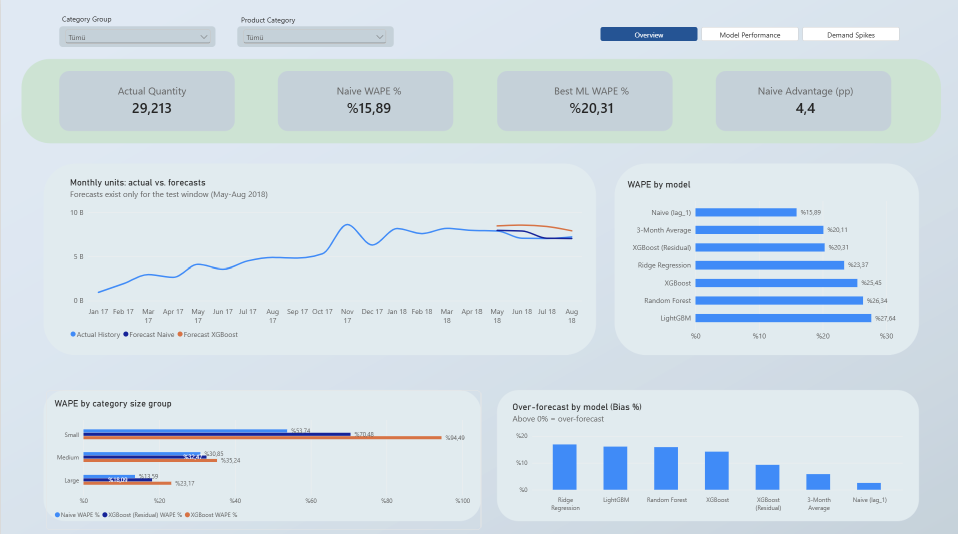

This screenshot's page, from the dashboard's own definition file:
{"tool":"powerbi","page":{"name":"Overview","canvas":[1920,1080],"ordinal":0},"visuals":[{"type":"cardVisual","fields":{"Data":["_Measures.Actual Quantity"]},"box":[162.5,147.5,280,110],"z":0},{"type":"cardVisual","fields":{"Data":["_Measures.Naive WAPE %"]},"box":[595,147.5,280,110],"z":1000},{"type":"cardVisual","fields":{"Data":["_Measures.Best ML WAPE %"]},"box":[1040,147.5,280,110],"z":2000},{"type":"cardVisual","fields":{"Data":["_Measures.Naive Advantage (pp)"]},"box":[1467.5,147.5,280,110],"z":3000},{"type":"lineChart","title":"Monthly units: actual vs. forecasts","fields":{"Category":["DimMonth.Month Label"],"Y":["_Measures.Actual History","_Measures.Forecast Naive","_Measures.Forecast XGBoost"]},"box":[122.5,342.5,1057.5,357.5],"z":4000},{"type":"clusteredBarChart","title":"         WAPE by model","fields":{"Category":["forecast_results.model"],"Y":["_Measures.WAPE %"]},"box":[1235,345,582.5,357.5],"z":5000},{"type":"clusteredBarChart","title":"WAPE by category size group","fields":{"Category":["forecast_results.category_group"],"Y":["_Measures.Naive WAPE %","_Measures.XGBoost (Residual) WAPE %","_Measures.XGBoost WAPE %"]},"box":[90,781.2,870,278.8],"z":6000},{"type":"clusteredColumnChart","title":"Over-forecast by model (Bias %)","fields":{"Category":["forecast_results.model"],"Y":["_Measures.Bias %"]},"box":[1005,790,812.5,252.5],"z":7000},{"type":"slicer","fields":{"Values":["category_dim.size_group"]},"box":[123,55,300,43],"z":8000},{"type":"textbox","box":[122,30,280,23],"z":9000},{"type":"slicer","fields":{"Values":["category_dim.product_category_name"]},"box":[480,55.7,295.7,42.9],"z":10000},{"type":"textbox","box":[480,31.4,280,23],"z":11000},{"type":"pageNavigator","box":[1198,56,600,28],"z":11001}]}

Visuals, with their boxes in screenshot pixels (x1, y1, x2, y2), scaled from the page's 1920x1080 canvas onto the 958x534 screenshot:
cardVisual - _Measures.Actual Quantity: box(81, 73, 221, 127)
cardVisual - _Measures.Naive WAPE %: box(297, 73, 437, 127)
cardVisual - _Measures.Best ML WAPE %: box(519, 73, 659, 127)
cardVisual - _Measures.Naive Advantage (pp): box(732, 73, 872, 127)
"Monthly units: actual vs. forecasts" lineChart: box(61, 169, 589, 346)
"         WAPE by model" clusteredBarChart: box(616, 171, 907, 347)
"WAPE by category size group" clusteredBarChart: box(45, 386, 479, 524)
"Over-forecast by model (Bias %)" clusteredColumnChart: box(501, 391, 907, 515)
slicer - category_dim.size_group: box(61, 27, 211, 48)
textbox: box(61, 15, 201, 26)
slicer - category_dim.product_category_name: box(240, 28, 387, 49)
textbox: box(240, 16, 379, 27)
pageNavigator: box(598, 28, 897, 42)
